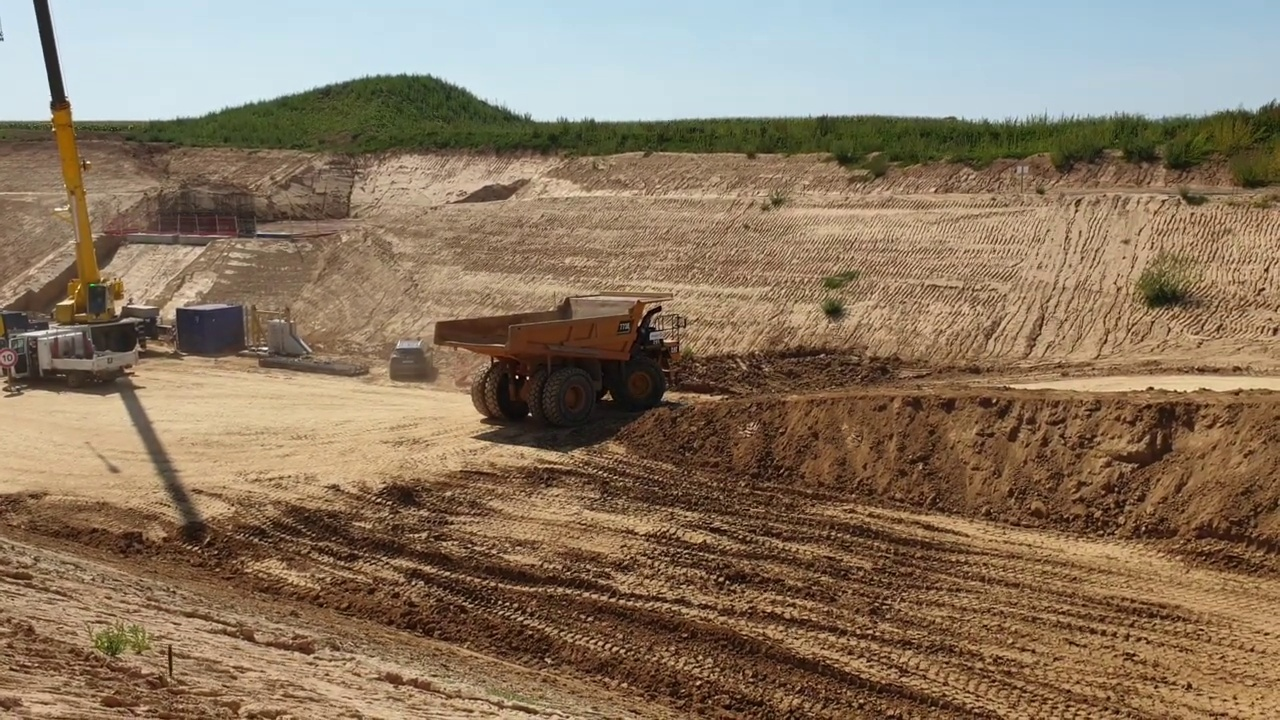crane: (1, 1, 149, 400)
truck: (429, 288, 690, 438)
